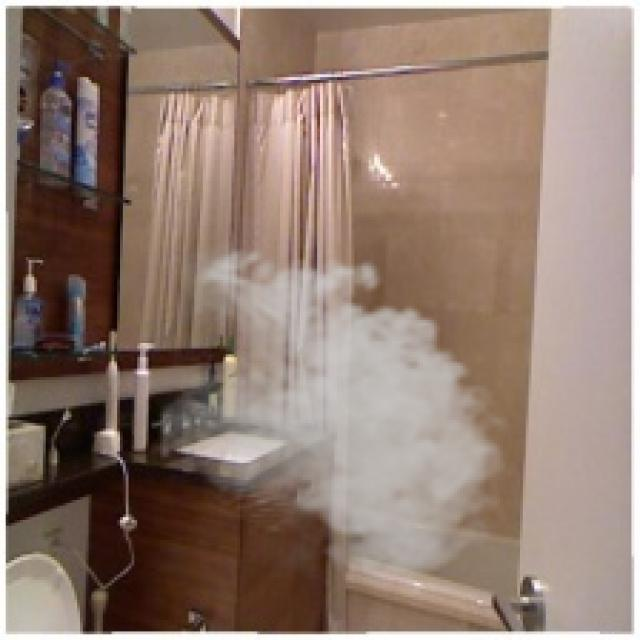smoke: (157, 237, 517, 583)
